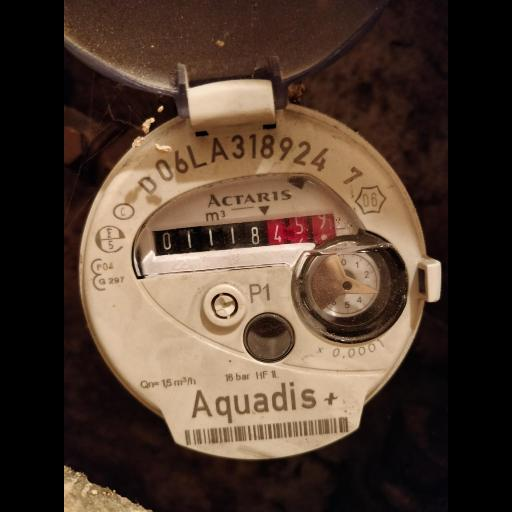0: (158, 229, 174, 255)
1: (202, 225, 218, 253), (225, 223, 240, 250), (183, 227, 197, 254)
4: (270, 218, 284, 246)
5: (290, 216, 308, 244)
8: (247, 220, 264, 248)
9: (315, 214, 333, 245)
border_water_meter_number: (151, 214, 337, 263)
